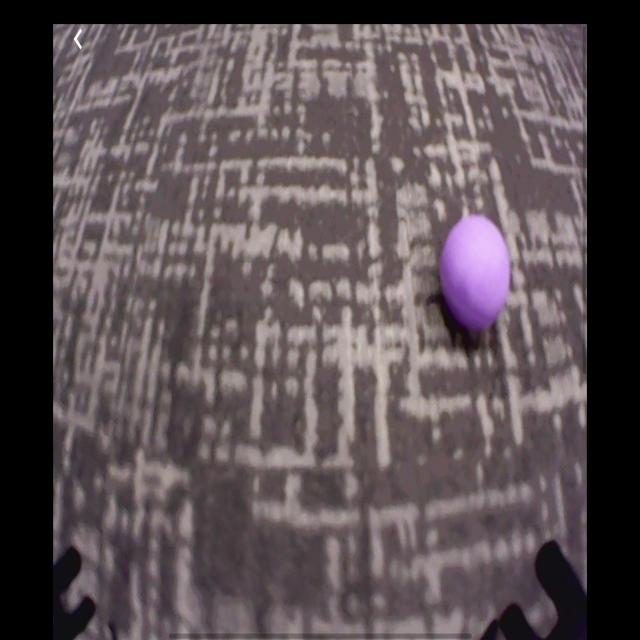ball: (439, 216, 513, 330)
